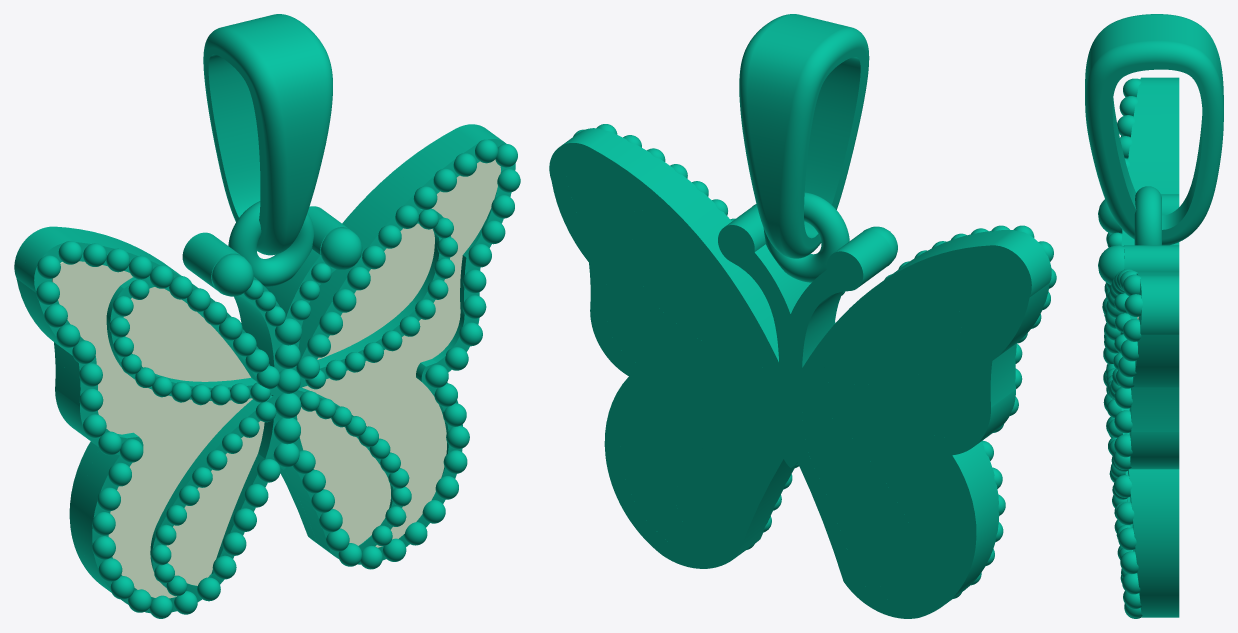
3 renders of one model, left to right at view 1: azimuth 30°, elevation 25°; view 2: azimuth 150°, elevation 25°; view 3: azimuth 270°, elevation 25°, orthographic. The views are drawn at different scales.
Parts seen in each view (by area): view 1: PG-F (164).3dm, Bead On Surface (×2); view 2: PG-F (164).3dm; view 3: PG-F (164).3dm, Bead On Surface (×2).
Boxes of the visible parts, <box> form: PG-F (164).3dm: <box>14,14,520,618</box>; Bead On Surface (×2): <box>212,228,362,296</box>; PG-F (164).3dm: <box>549,14,1056,618</box>; PG-F (164).3dm: <box>1085,14,1223,618</box>; Bead On Surface (×2): <box>1098,199,1124,284</box>.
Bounding box in the file's own units: 2.65 × 2.92 × 0.6846.
